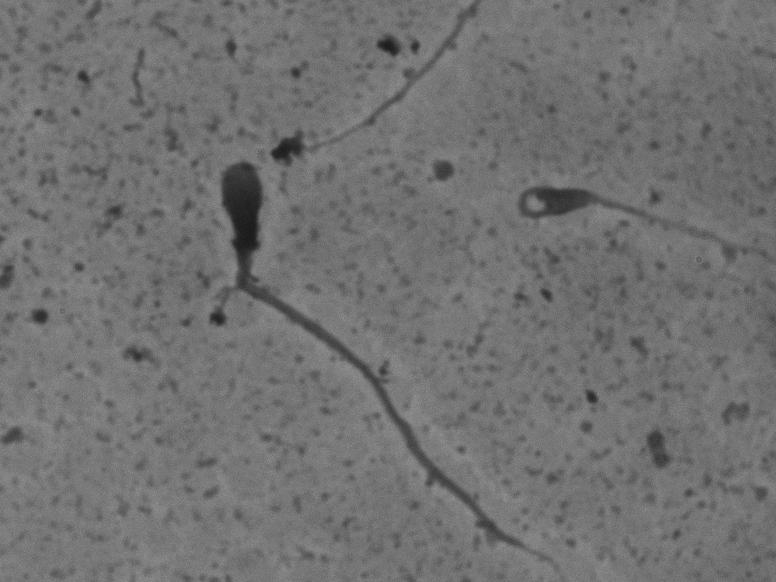Abnormal: (208, 149, 582, 574), (475, 145, 755, 312)
